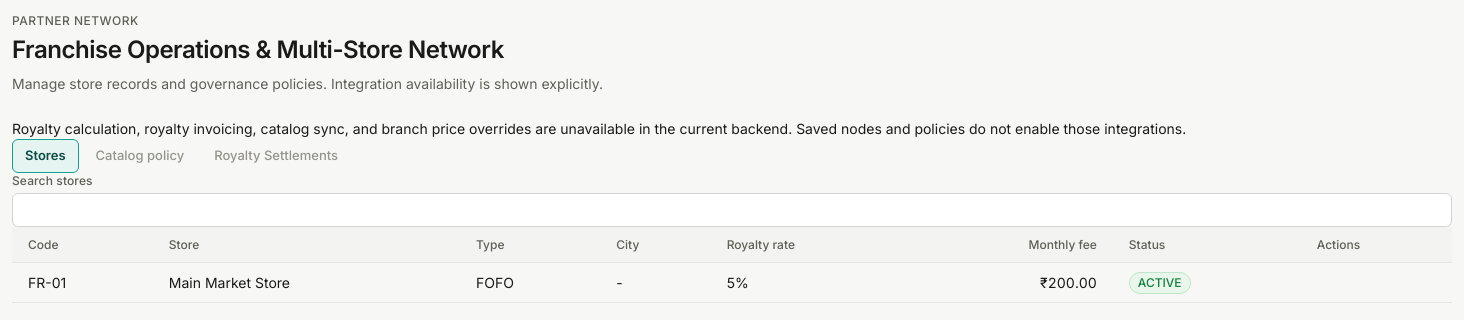
Scenario: keeps unsupported royalties read-only and hides admin edits from viewers
This screenshot has width=1464, height=320.
Click the tab "Royalty Settlements".
click(276, 156)  # box [201,139,351,173]
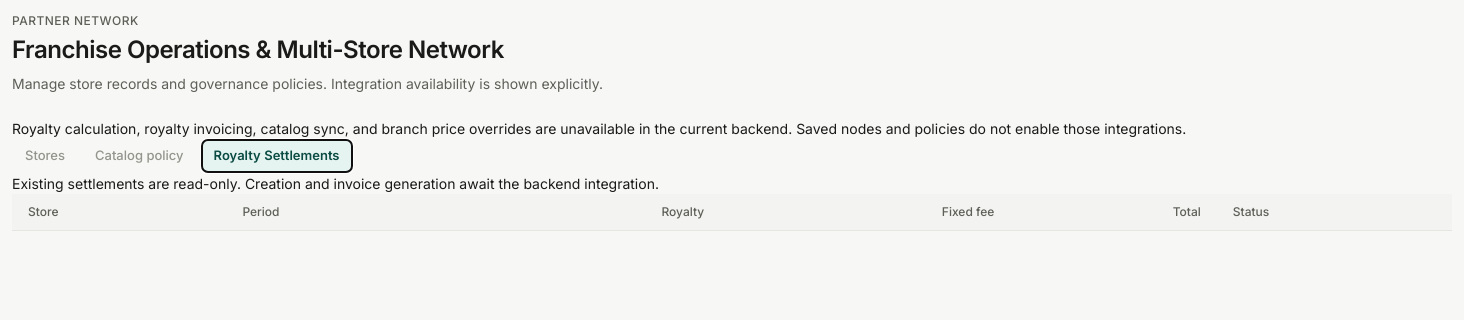
Check: the text "Creation and invoice generation await" is shown, box [12,175,659,192]
